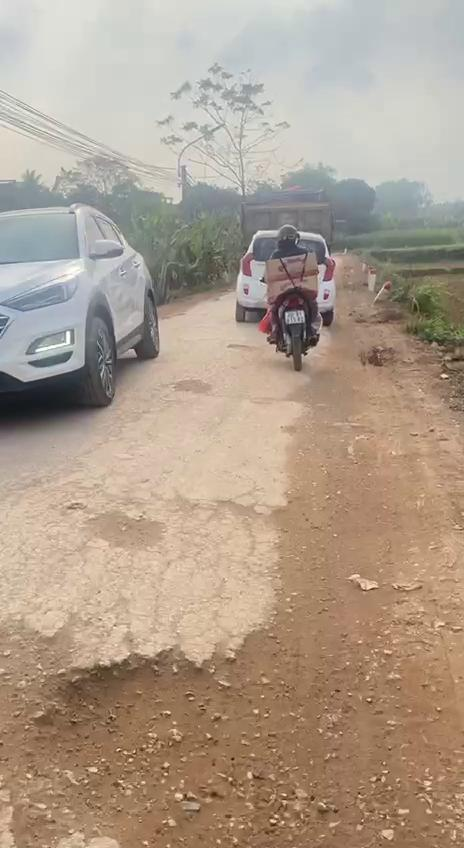pothole: (0, 609, 327, 848), (92, 510, 170, 554), (174, 376, 216, 398)
